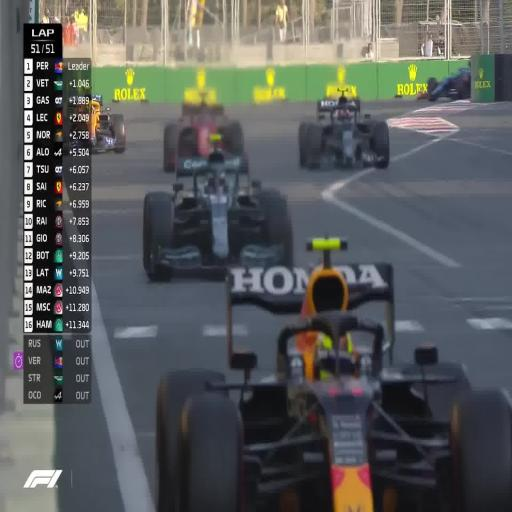f1_car: (156, 250, 512, 511), (143, 134, 293, 280), (298, 93, 389, 168), (163, 97, 248, 173), (64, 95, 125, 153), (418, 67, 471, 101), (310, 239, 333, 248), (273, 269, 278, 274), (80, 96, 85, 101), (244, 276, 247, 283), (259, 269, 262, 276), (386, 274, 391, 278), (278, 268, 282, 273), (242, 269, 248, 272), (291, 284, 293, 288), (390, 326, 392, 329), (293, 289, 296, 290), (188, 275, 190, 276), (244, 284, 244, 286), (239, 278, 239, 280), (338, 246, 339, 246)
